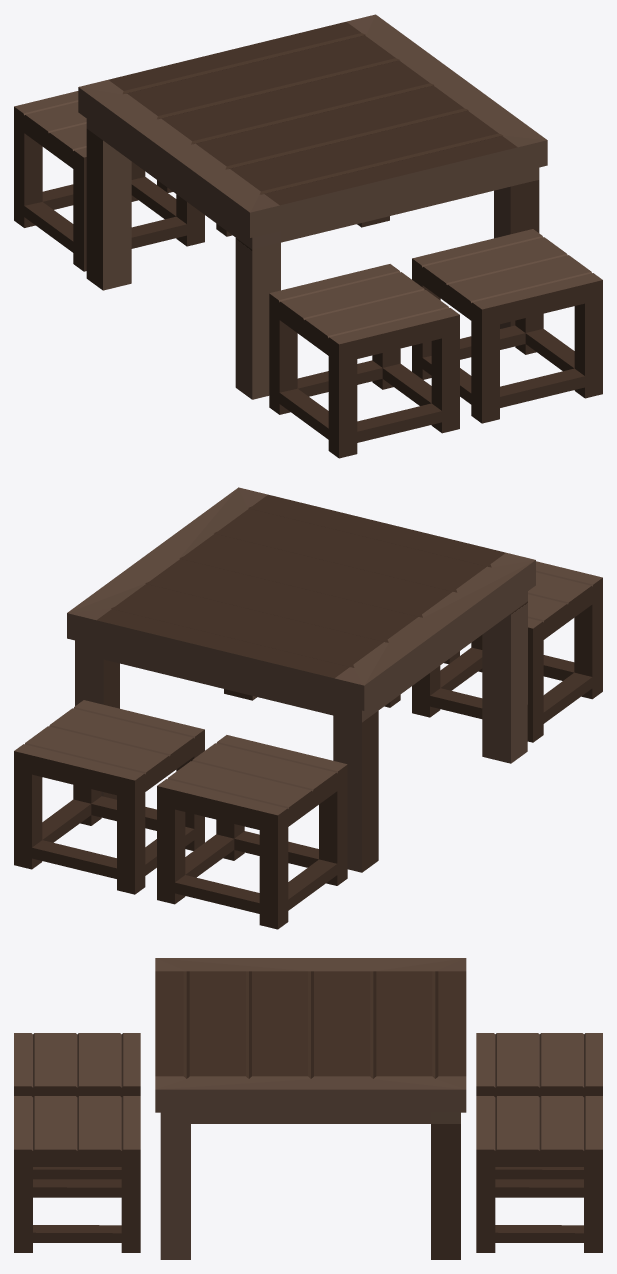
File: Accesories_Outdoor_Table.glb
3 views of the same model, one above another, from view 1: azimuth 30°, elevation 25°; view 2: azimuth 150°, elevation 25°; view 3: azimuth 270°, elevation 25° (orthographic). The views are drawn at different scales.
Parts seen in each view (by area): view 1: Accesories_Outdoor_Table; view 2: Accesories_Outdoor_Table; view 3: Accesories_Outdoor_Table.
Part boxes in pixels (x1,y1,x2,y2): Accesories_Outdoor_Table: (14,14,602,458); Accesories_Outdoor_Table: (14,487,602,929); Accesories_Outdoor_Table: (14,958,602,1259).
Size of the model in its own units: 1.13 by 0.6953 by 2.14.
Materials: 1 (1 with a texture image).
